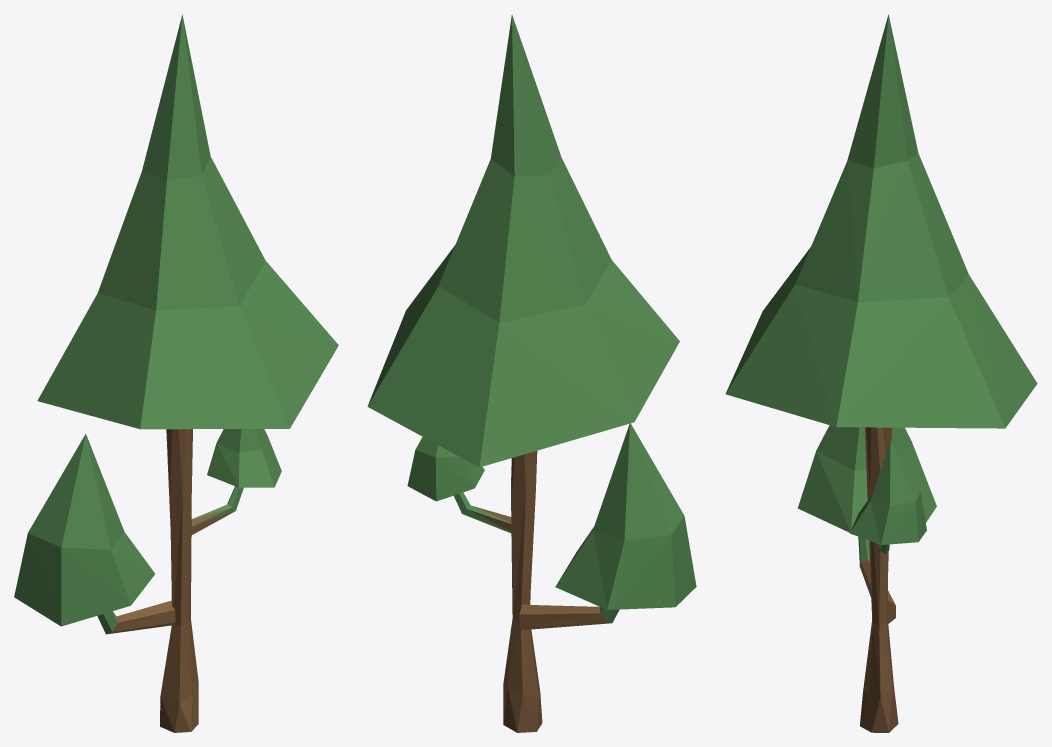
Rendered from tree3d-191.glb.
3 renders of one model, left to right at view 1: azimuth 30°, elevation 25°; view 2: azimuth 150°, elevation 25°; view 3: azimuth 270°, elevation 25°, orthographic.
Visible parts, largest first — view 1: tree3d-191; view 2: tree3d-191; view 3: tree3d-191.
Boxes of the visible parts, left/top/right/bottom form: tree3d-191: left=14, top=14, right=338, bottom=732; tree3d-191: left=367, top=15, right=696, bottom=732; tree3d-191: left=725, top=14, right=1037, bottom=732.
Bounding box in the file's own units: 0.4385 × 1 × 0.3957.
